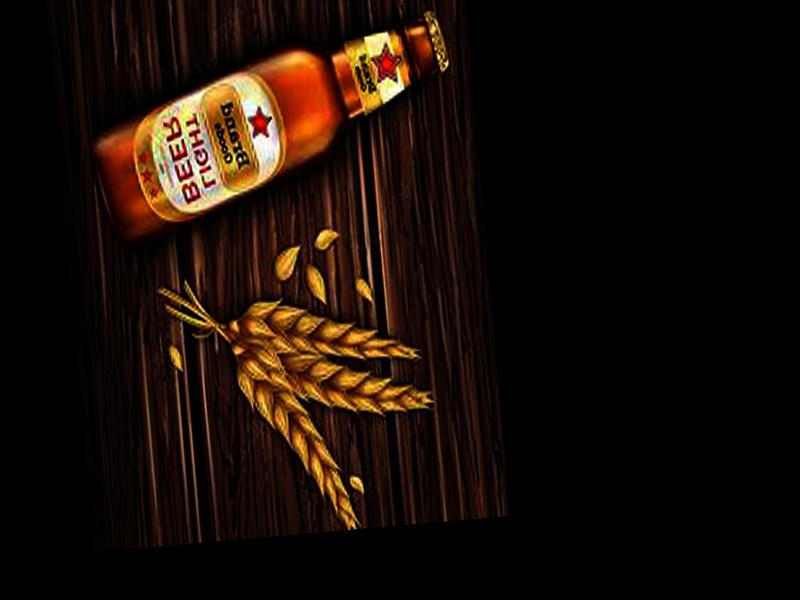Beer: (82, 6, 463, 248)
